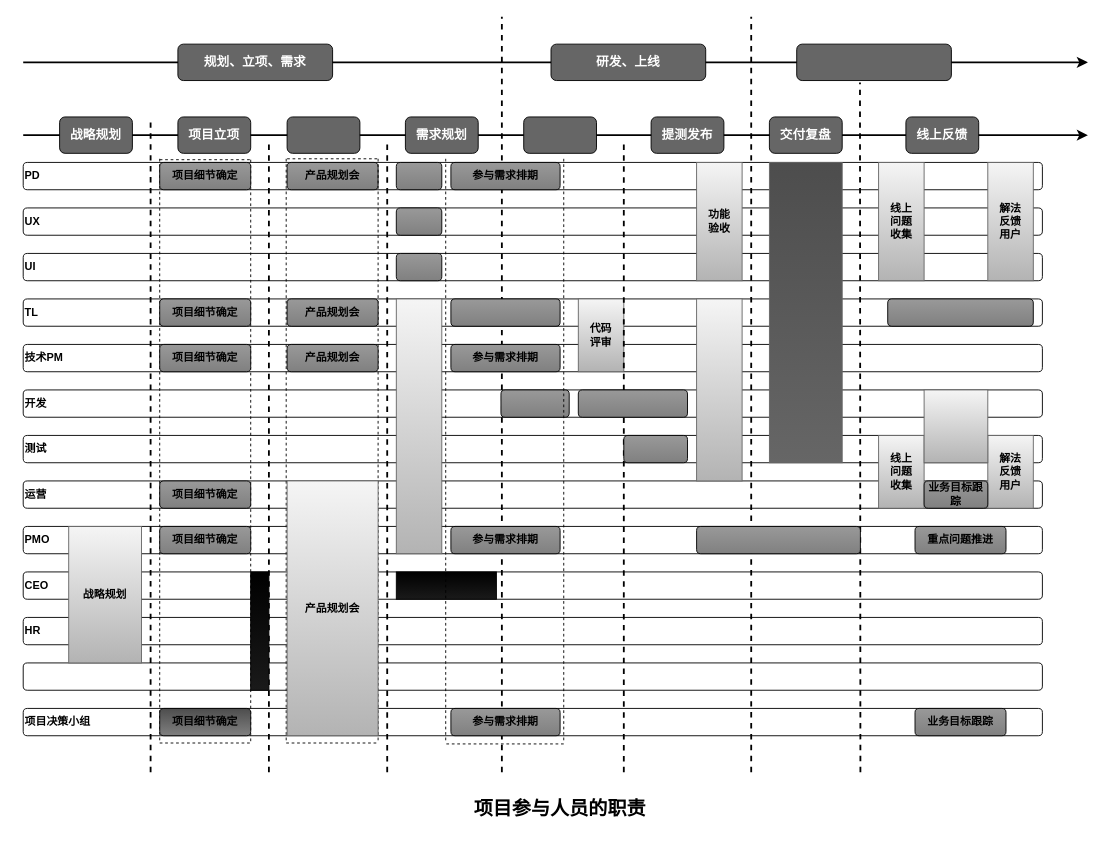
This 1111x842 diagram has some shape labels left out. The shapes that lost their labels are listed below. From the top down, each one's centre as x and y in pixels, then its label:
point 873,62: 复盘反馈
point 323,134: 产品规划
point 560,134: 排期研发
point 418,176: PRD
point 418,221: 交互稿
point 418,267: 视觉稿
point 505,312: 需求排期
point 805,312: 确定 并执行 改进方案
point 960,312: 线上问题整体状态跟踪
point 534,403: 代码开发
point 632,403: 功能自测 功能提测
point 719,389: 上线 发布
point 418,426: 参与 评审
point 955,426: 线上 问题 解决
point 655,449: 集成测试
point 778,540: 跟踪并落实改进方案
point 445,585: 关键内容确认
point 259,630: 批准立项
point 532,676: 管理团队
